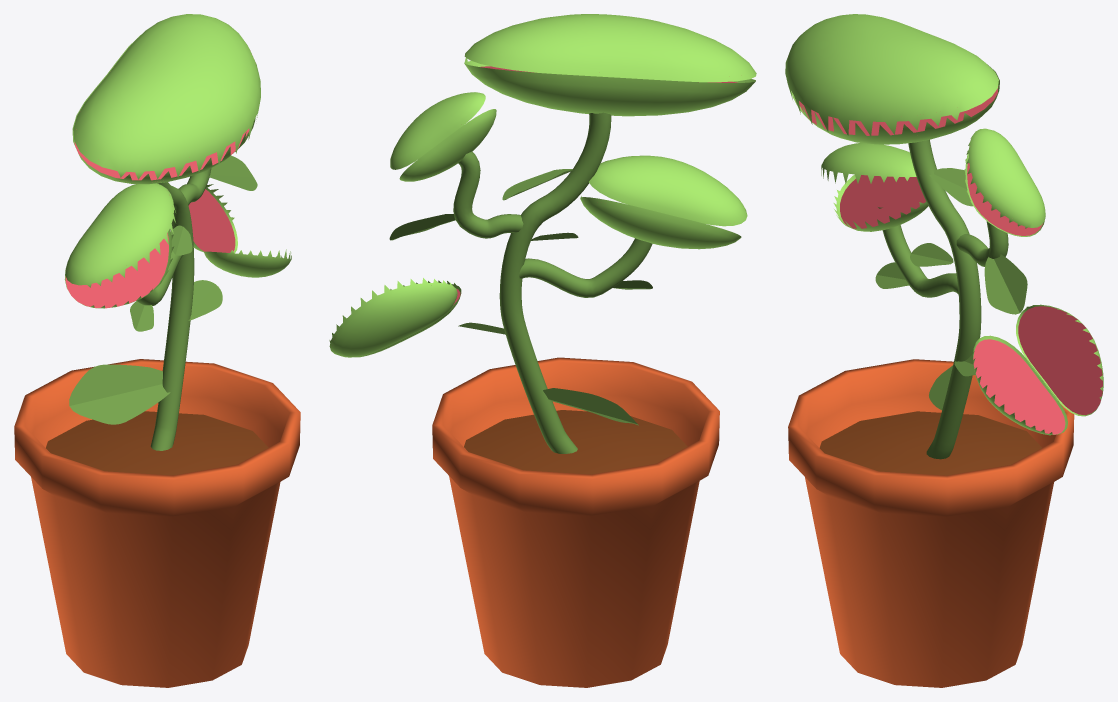
File: VenusFlytrap1.glb
3 renders of one model, left to right at view 1: azimuth 30°, elevation 25°; view 2: azimuth 150°, elevation 25°; view 3: azimuth 270°, elevation 25°, orthographic.
Visible parts, largest first — view 1: NurbsPath.036; view 2: NurbsPath.036; view 3: NurbsPath.036.
Part boxes in pixels (x1,y1,x2,y2): NurbsPath.036: (14, 14, 300, 687); NurbsPath.036: (329, 14, 756, 687); NurbsPath.036: (785, 14, 1103, 687).
Bounding box in the file's own units: 1.77 × 3.37 × 1.59.
